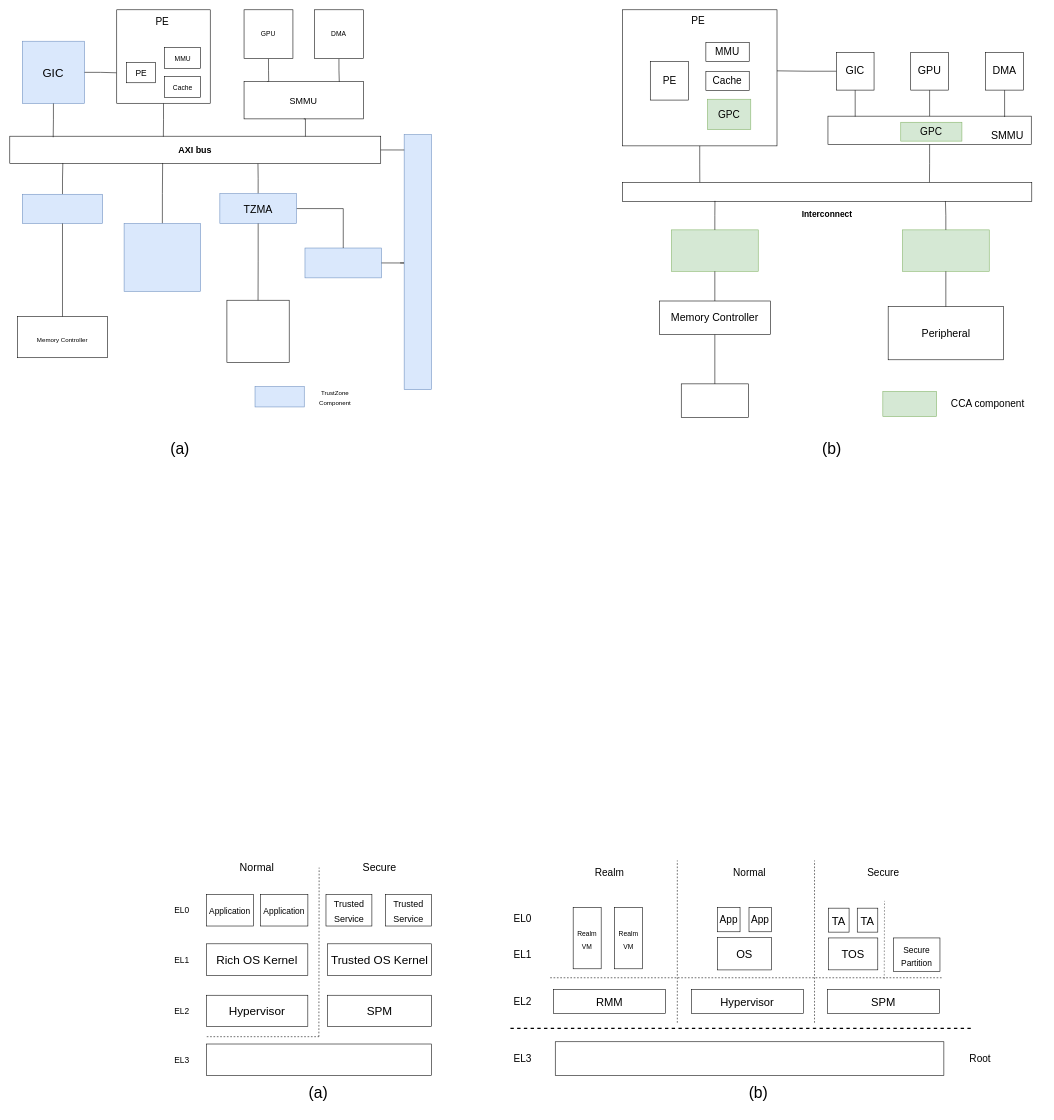
Image size: 1054x1120. Some labels were removed from this diagram. Here are the shapes that lost their labels. From the top down, the centre of each, then its label:
At (62,208): "TZASC".
At (162,257): "Trusted Boot Rom".
At (343,262): "TZPC".
At (417,262): "AXI-to-APB bridge".
At (714,250): "MPE".
At (945,250): "PAS filter".
At (257,331): "SRAM".
At (714,400): "Memory".
At (318,1059): "Secure Monitor".
At (749,1058): "Monitor".
